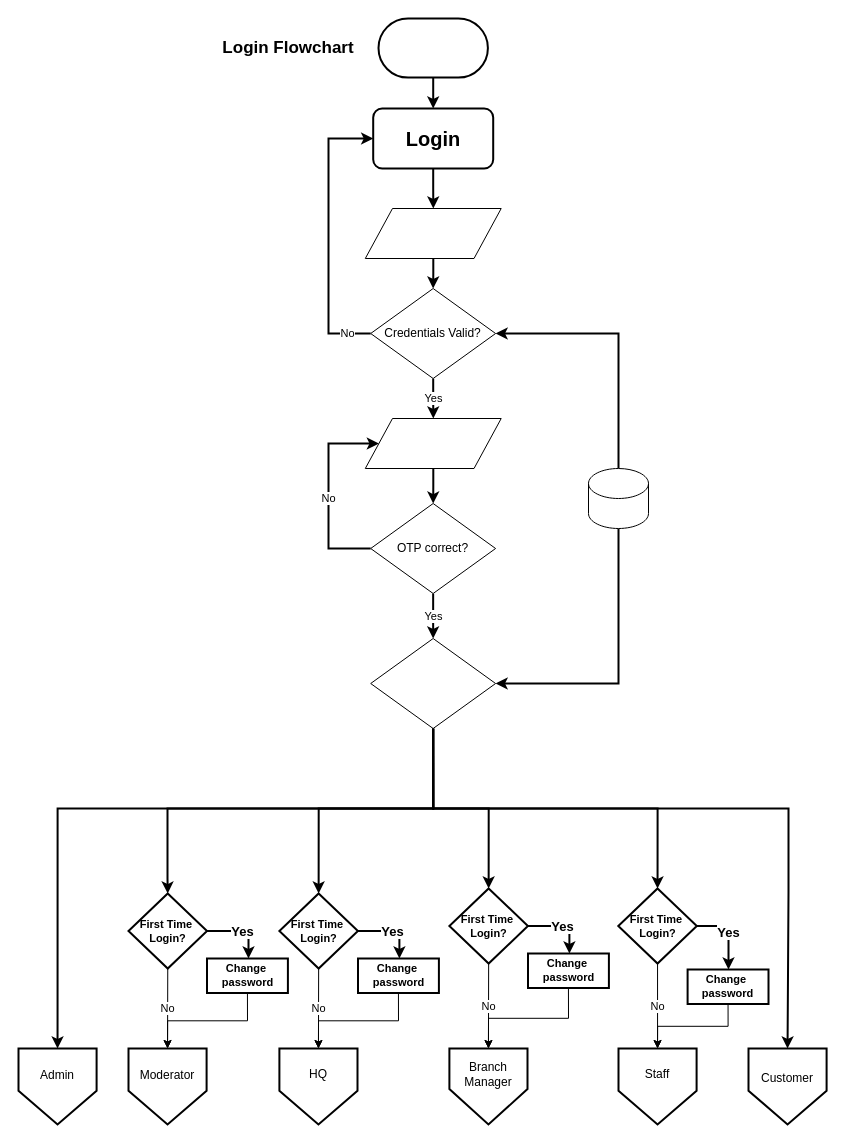
This 845x1142 diagram has some shape labels left out. The shapes that lost their labels are listed below. From the top down, each one's centre as x and y in pixels, then its label:
At point 432,47: "Start".
At point 432,233: "Enter E-mail & Password".
At point 432,443: "Enter OTP".
At point 618,498: "Database".
At point 433,683: "Verify User's role".
